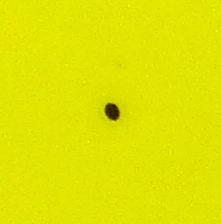Coleoptera: (100, 100, 121, 124)
